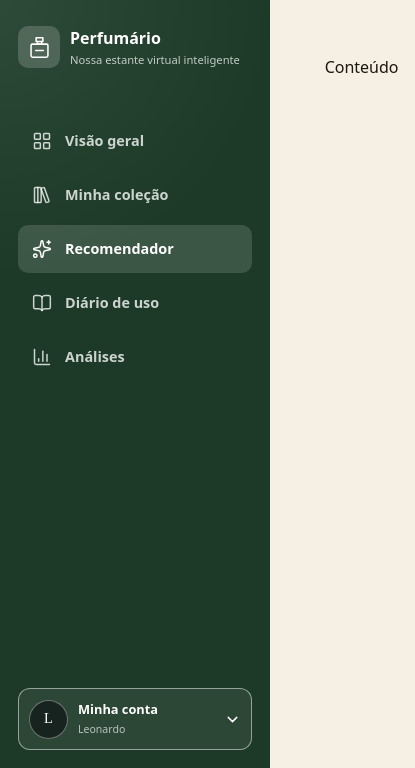
it: AppShell › exposes profile editing and logout from the account menu
Step 1. Click the button "L Minha conta Leonardo" → coordinates (135, 719), box [18,688,252,750]
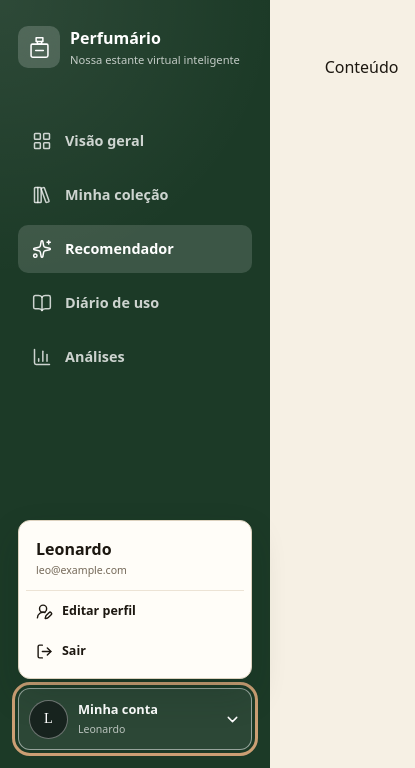
Expected: the button "Sair" is shown, [26,631,244,671]
